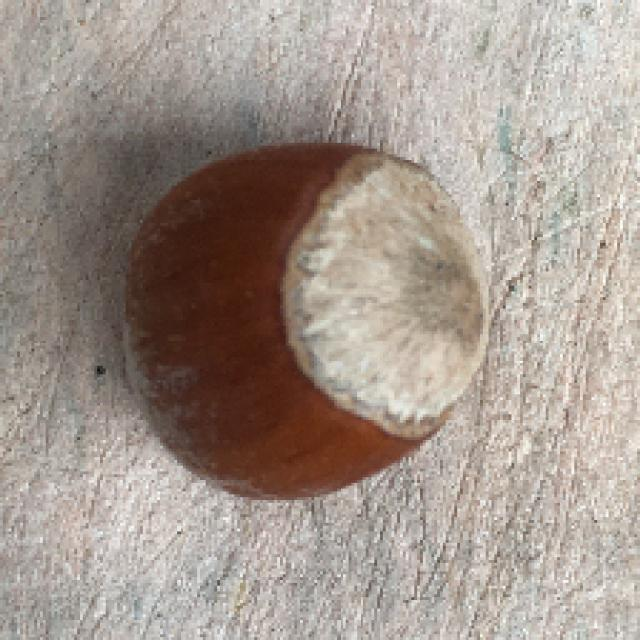qualityHazelnut: (108, 139, 494, 511)
